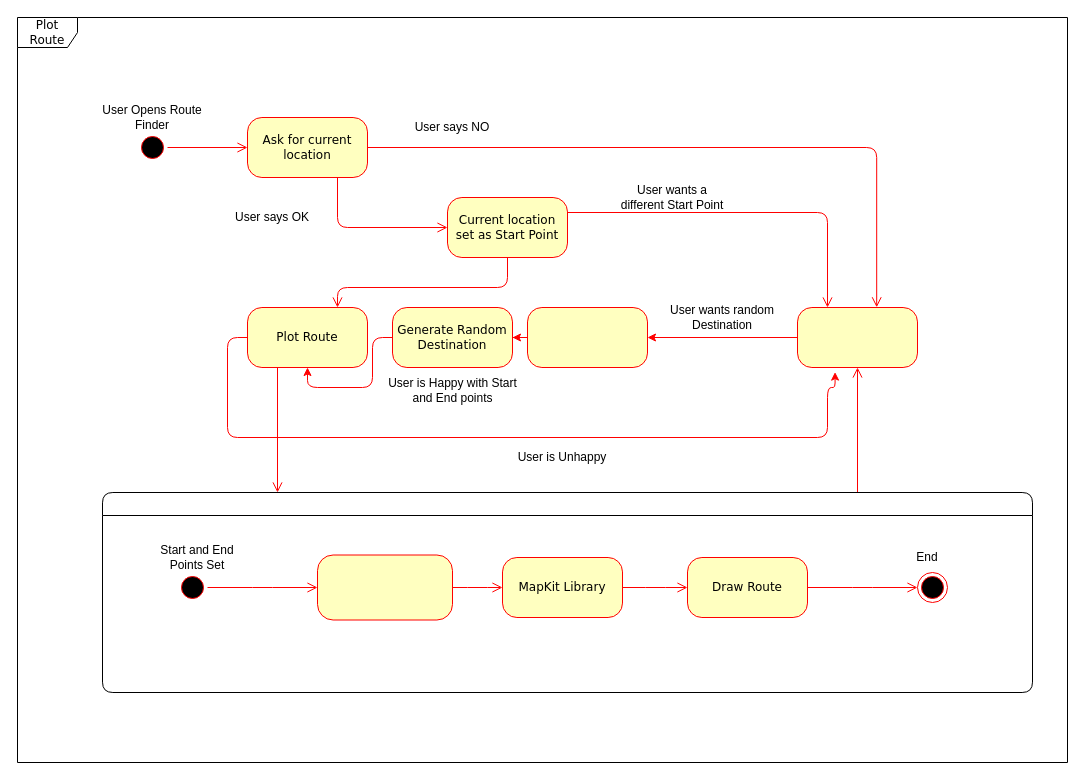
This 1085x780 diagram has some shape labels left out. Each missing label, with the box of its shape:
Get custom start location: (796, 306, 918, 368)
MapKit API: (102, 492, 1032, 692)
MKDirections.Request: (316, 554, 452, 620)
Set Max Random Distance: (526, 306, 648, 368)
